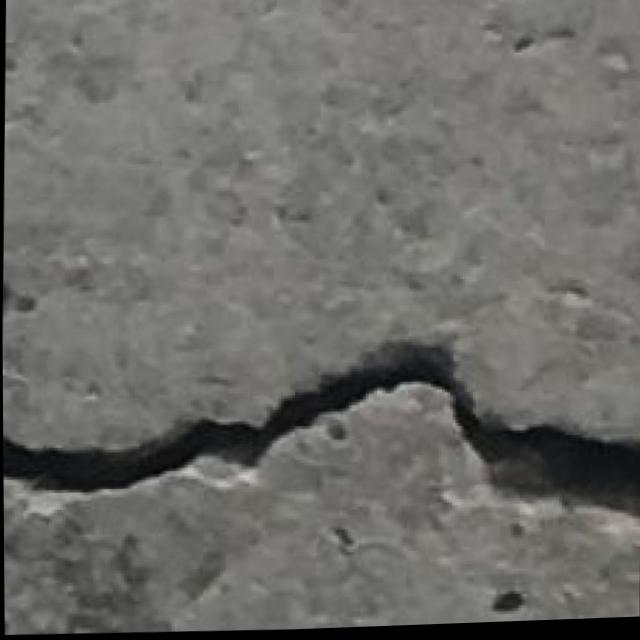Crack: (2, 322, 640, 581)
